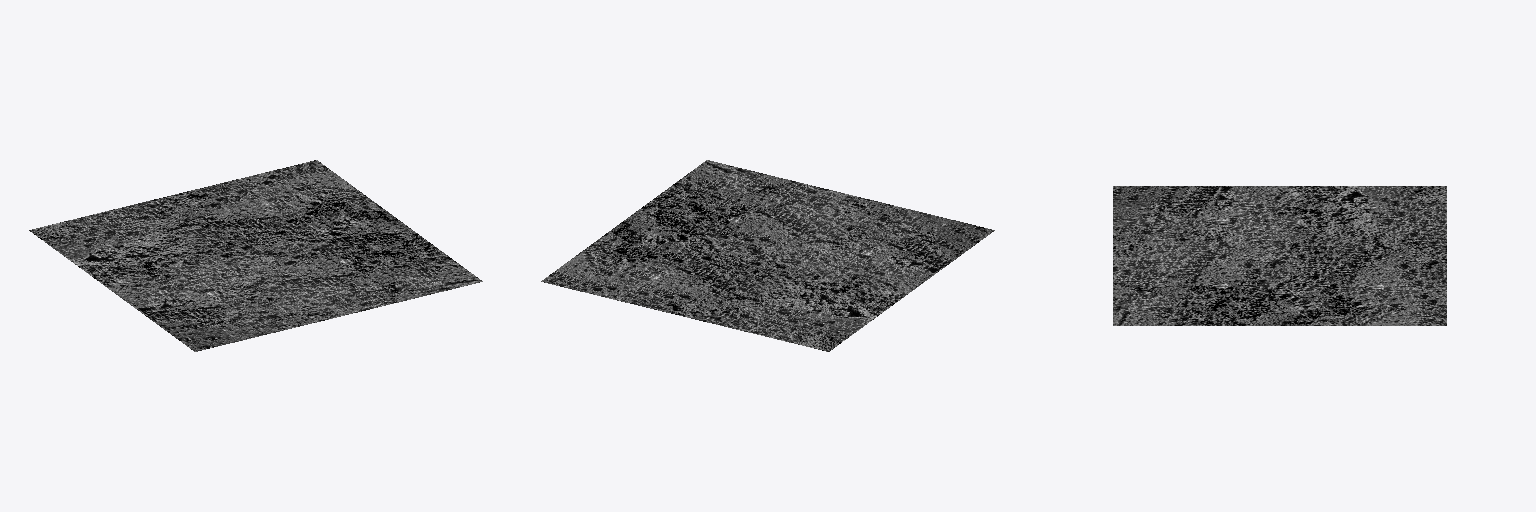
The picture shows the model from 3 angles: view 1: azimuth 30°, elevation 25°; view 2: azimuth 150°, elevation 25°; view 3: azimuth 270°, elevation 25°; orthographic projection.
Parts seen in each view (by area): view 1: dirt_Plane.005; view 2: dirt_Plane.005; view 3: dirt_Plane.005.
Part boxes in pixels (left/top/right/bottom): dirt_Plane.005: left=29, top=160, right=482, bottom=351; dirt_Plane.005: left=541, top=160, right=994, bottom=351; dirt_Plane.005: left=1113, top=186, right=1446, bottom=325.
Bounding box in the file's own units: 2 × 0 × 2.
Materials: 1 (1 with a texture image).